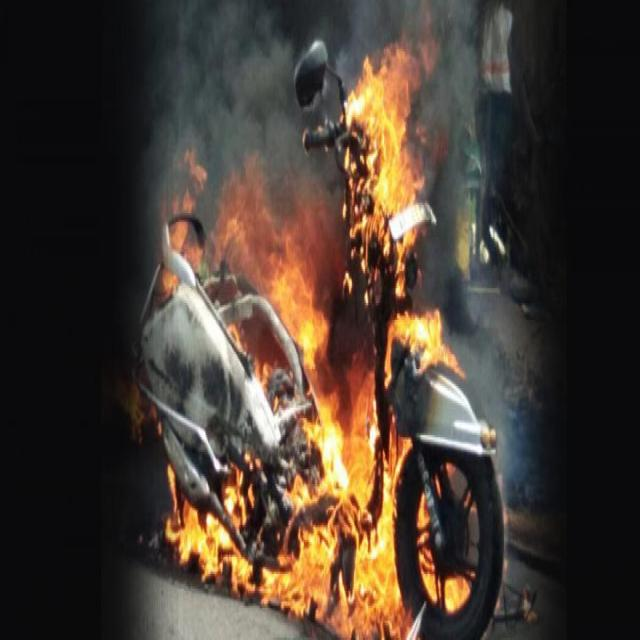fire: (293, 432, 398, 634), (352, 44, 428, 300), (230, 185, 332, 368), (162, 494, 260, 597)
